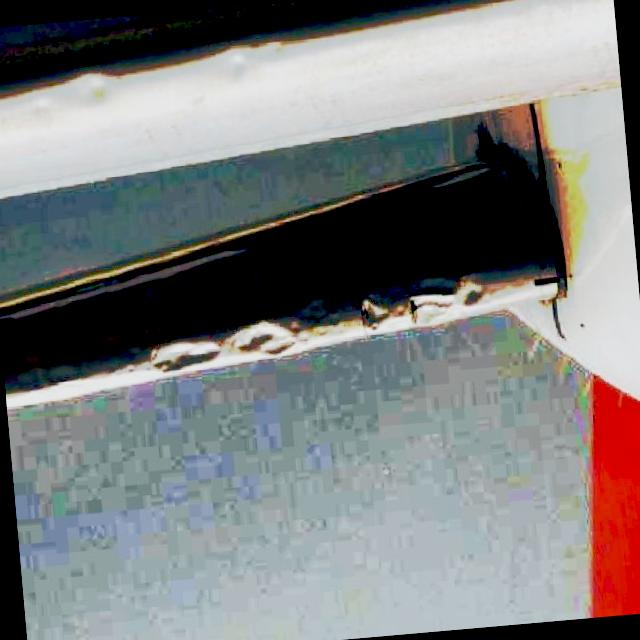dent: (229, 317, 300, 362), (145, 335, 224, 375), (406, 288, 455, 326), (356, 294, 395, 334), (218, 46, 259, 84), (76, 71, 115, 103), (454, 280, 494, 311)
